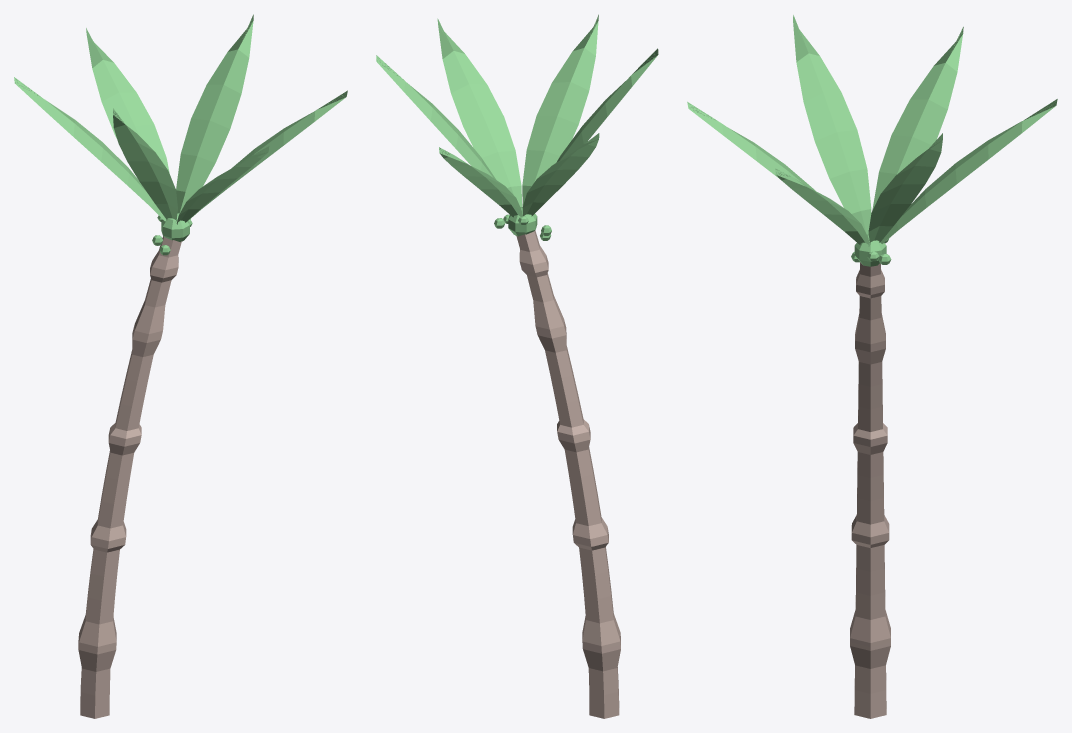
The model's file is Palm_Tree.glb.
3 views of the same model, side by side, from view 1: azimuth 30°, elevation 25°; view 2: azimuth 150°, elevation 25°; view 3: azimuth 270°, elevation 25° (orthographic). The views are drawn at different scales.
Visible parts, largest first — view 1: Palm_Tree_Fronds, Palm_Tree_Trunk; view 2: Palm_Tree_Fronds, Palm_Tree_Trunk; view 3: Palm_Tree_Fronds, Palm_Tree_Trunk.
Part boxes in pixels (bbox=[...]): Palm_Tree_Fronds: bbox=[14, 14, 347, 255]; Palm_Tree_Trunk: bbox=[78, 236, 181, 718]; Palm_Tree_Fronds: bbox=[376, 14, 658, 240]; Palm_Tree_Trunk: bbox=[516, 230, 620, 718]; Palm_Tree_Fronds: bbox=[687, 15, 1057, 266]; Palm_Tree_Trunk: bbox=[850, 262, 890, 718].
Size of the model in its own units: 0.7745 by 1.9 by 0.9275.
